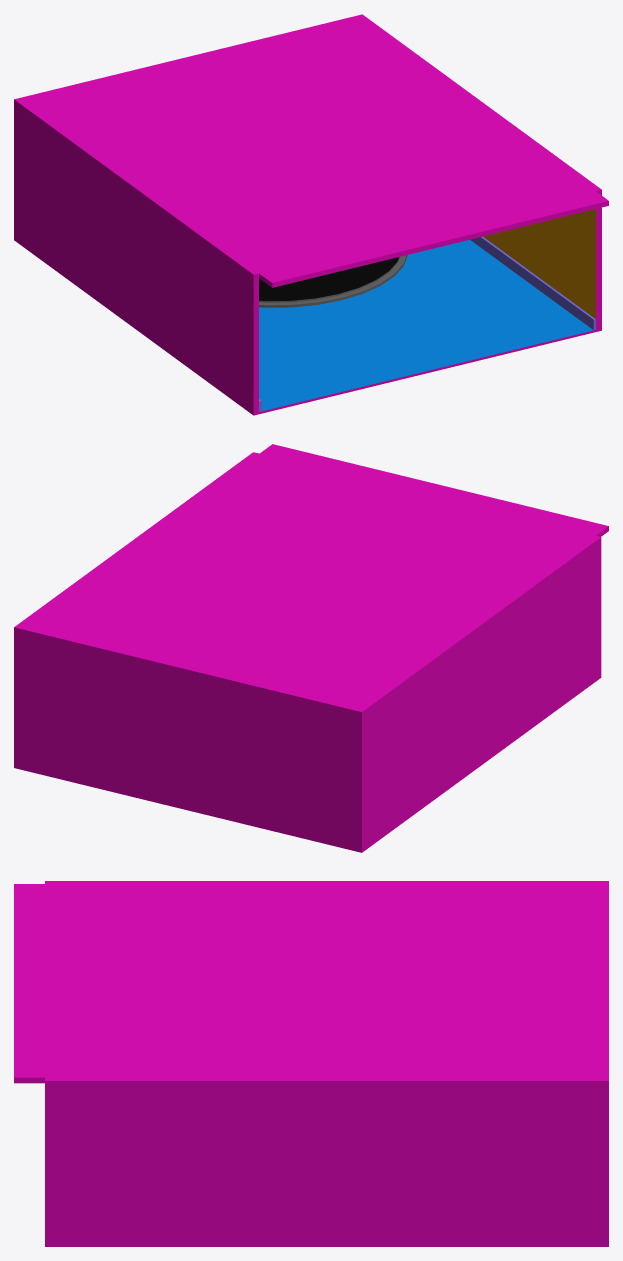
File: Room.fbx
3 views of the same model, one above another, from view 1: azimuth 30°, elevation 25°; view 2: azimuth 150°, elevation 25°; view 3: azimuth 270°, elevation 25° (orthographic). The views are drawn at different scales.
Visible parts, largest first — view 1: Room, Rotator; view 2: Room; view 3: Room.
Boxes of the visible parts, x1,y1,x2,y2 form: Room: (14, 14, 608, 415); Rotator: (259, 255, 407, 307); Room: (14, 444, 608, 852); Room: (14, 881, 608, 1246).
Bounding box in the file's own units: 1107 × 428 × 1391.
